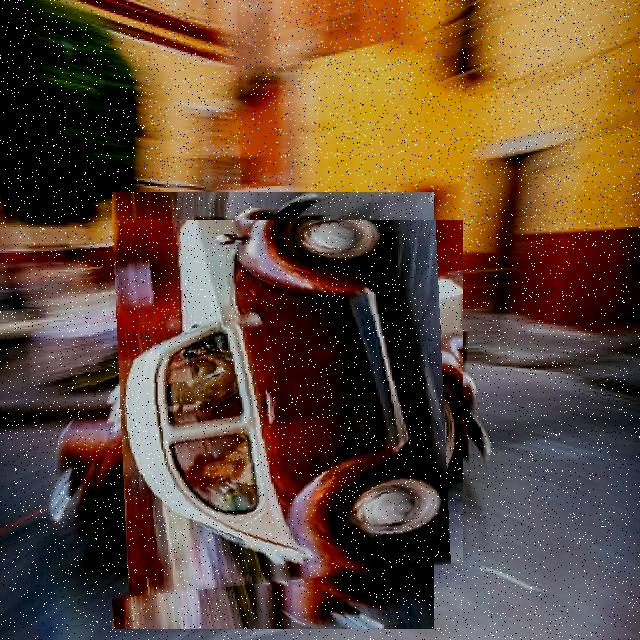car: (84, 221, 464, 601)
